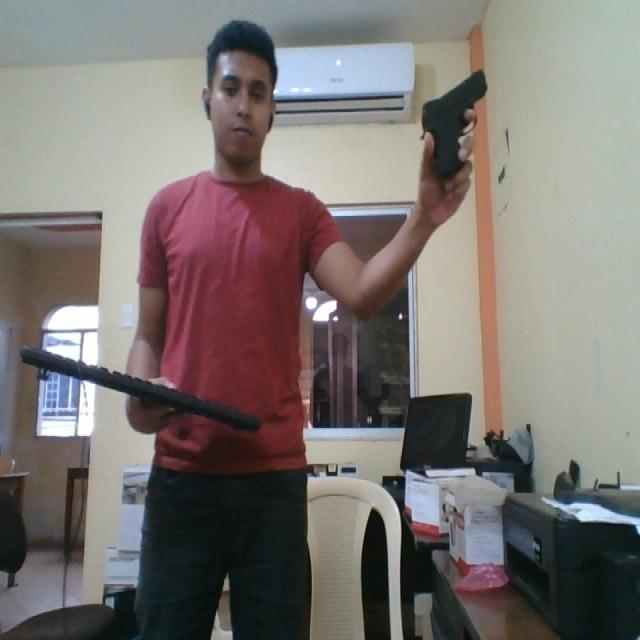weapon: (416, 64, 488, 190)
